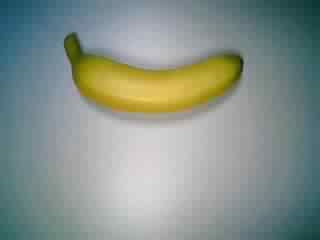banana: (61, 28, 250, 122)
